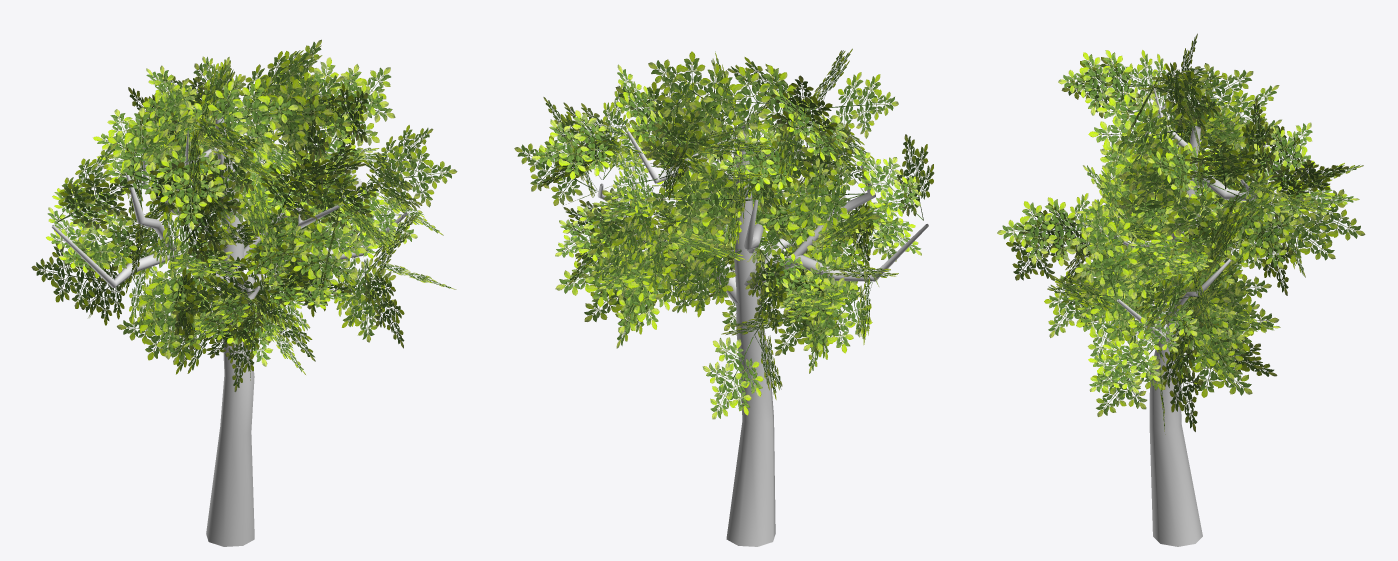
The model's file is Tree5.fbx.
3 renders of one model, left to right at view 1: azimuth 30°, elevation 25°; view 2: azimuth 150°, elevation 25°; view 3: azimuth 270°, elevation 25°, orthographic.
Parts seen in each view (by area): view 1: Tree5; view 2: Tree5; view 3: Tree5.
Boxes of the visible parts, <box> form: Tree5: <box>31,39,457,546</box>; Tree5: <box>514,48,934,546</box>; Tree5: <box>997,33,1365,546</box>.
Size of the model in its own units: 690 by 758 by 561.
